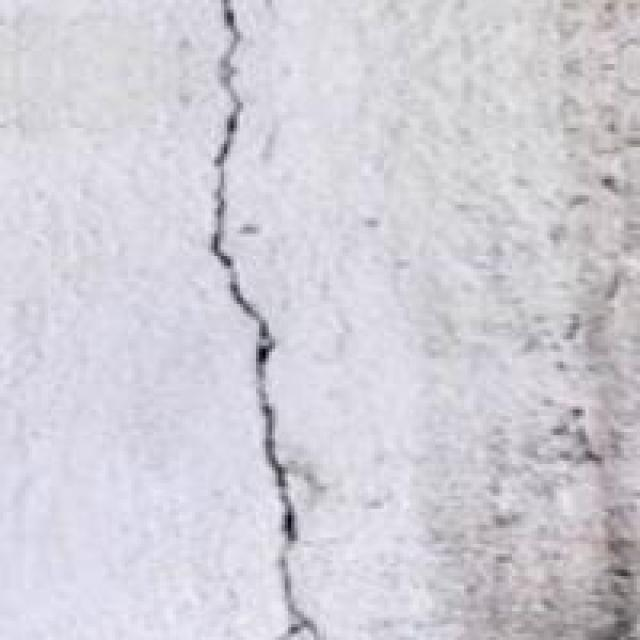crack: (147, 0, 403, 637)
